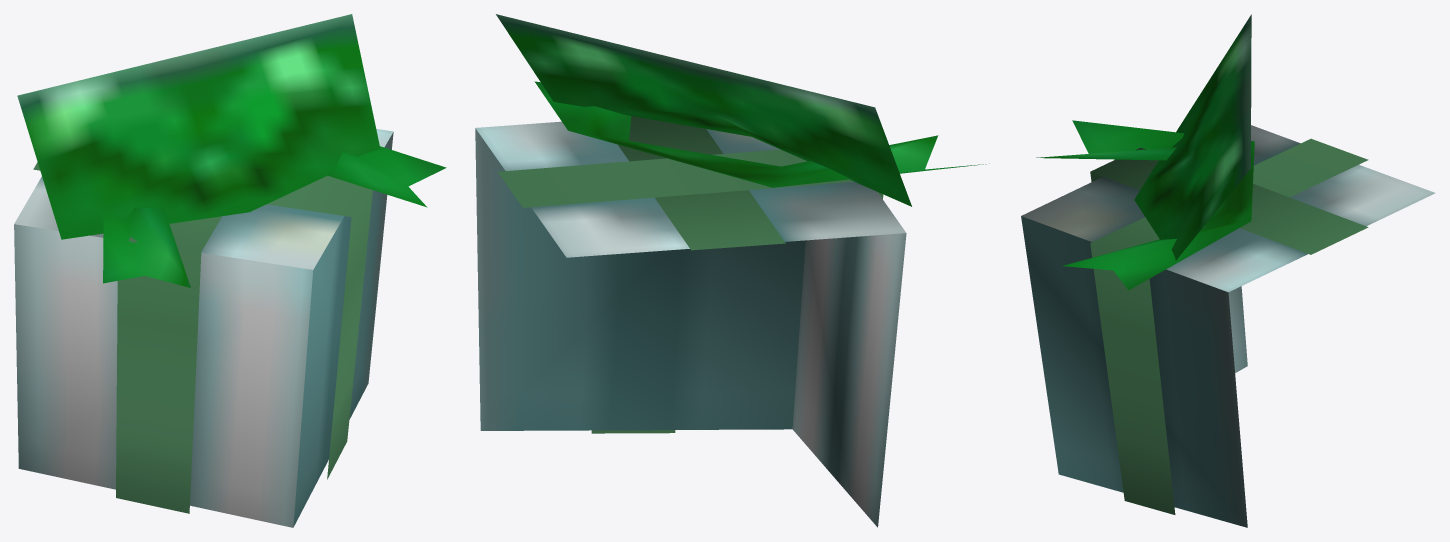
Rendered from fg_present_gr_out.dae.
3 views of the same model, side by side, from view 1: azimuth 30°, elevation 25°; view 2: azimuth 150°, elevation 25°; view 3: azimuth 270°, elevation 25° (orthographic). The views are drawn at different scales.
Visible parts, largest first — view 1: fg_present_gr_out; view 2: fg_present_gr_out; view 3: fg_present_gr_out.
Boxes of the visible parts, bbox=[...] form: fg_present_gr_out: bbox=[14, 14, 446, 527]; fg_present_gr_out: bbox=[475, 14, 989, 527]; fg_present_gr_out: bbox=[1021, 14, 1435, 527].
Size of the model in its own units: 16.19 by 16.3 by 16.13.
Materials: 1 (1 with a texture image).
